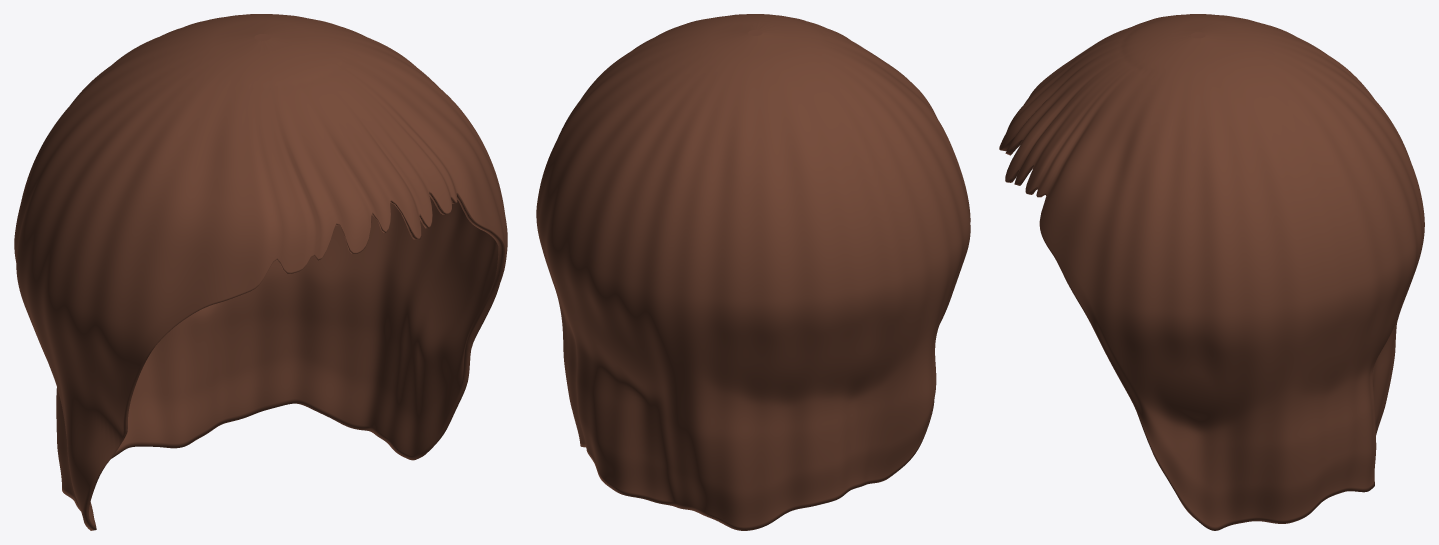
The model's file is air.glb.
The picture shows the model from 3 angles, left to right: view 1: azimuth 30°, elevation 25°; view 2: azimuth 150°, elevation 25°; view 3: azimuth 270°, elevation 25°; orthographic projection. The views are drawn at different scales.
Visible parts, largest first — view 1: Hair / soft brow fringe; view 2: Hair / soft brow fringe; view 3: Hair / soft brow fringe.
Boxes of the visible parts, box(x1,y1,x2,y2) form: Hair / soft brow fringe: box(14, 14, 507, 530); Hair / soft brow fringe: box(536, 14, 970, 530); Hair / soft brow fringe: box(999, 14, 1424, 530).
Bounding box in the file's own units: 0.823 × 0.8761 × 0.7741.
